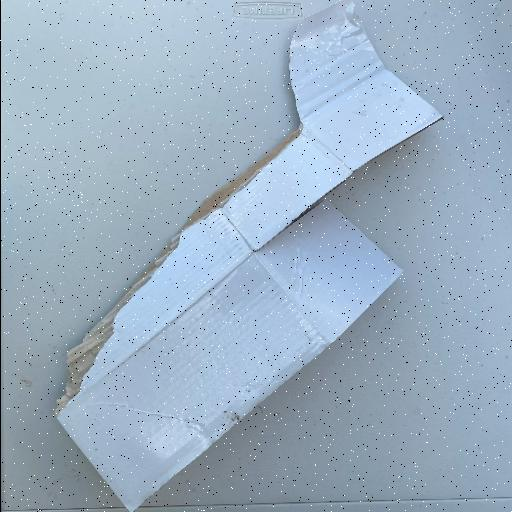Cardboard: (52, 2, 444, 509)
